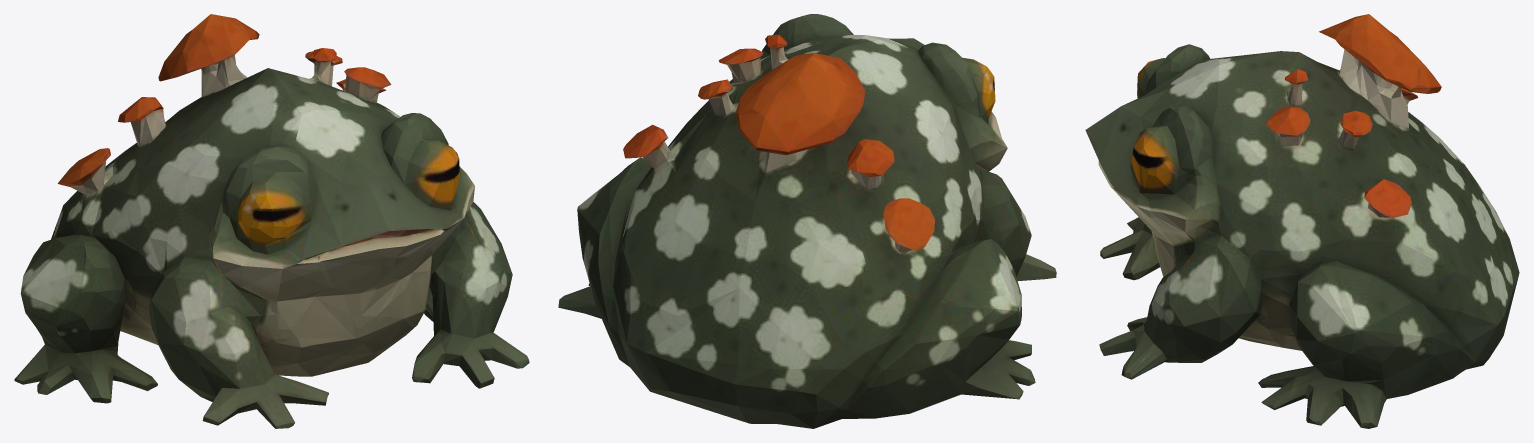
The model's file is monstre_crapaud_lichen.glb.
3 views of the same model, side by side, from view 1: azimuth 30°, elevation 25°; view 2: azimuth 150°, elevation 25°; view 3: azimuth 270°, elevation 25° (orthographic). The views are drawn at different scales.
Visible parts, largest first — view 1: geometry_0; view 2: geometry_0; view 3: geometry_0.
Part boxes in pixels (x1=…): geometry_0: x1=14, y1=14, x2=529, y2=428; geometry_0: x1=558, y1=14, x2=1056, y2=428; geometry_0: x1=1085, y1=14, x2=1519, y2=428.
Size of the model in its own units: 0.9925 by 0.6729 by 0.8633.
1 material, 1 textured.
